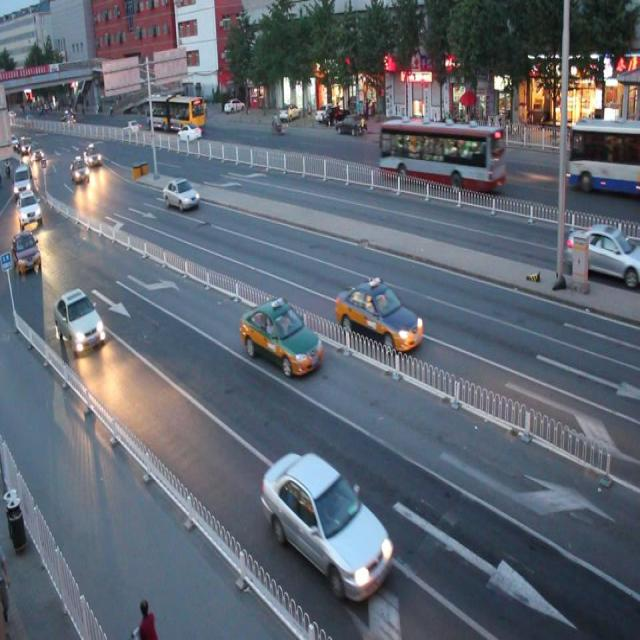car: (260, 445, 391, 602), (237, 298, 322, 376), (334, 280, 422, 351), (564, 222, 640, 287), (55, 289, 105, 353), (163, 174, 199, 212)
van: (378, 116, 504, 193), (565, 116, 640, 200)
